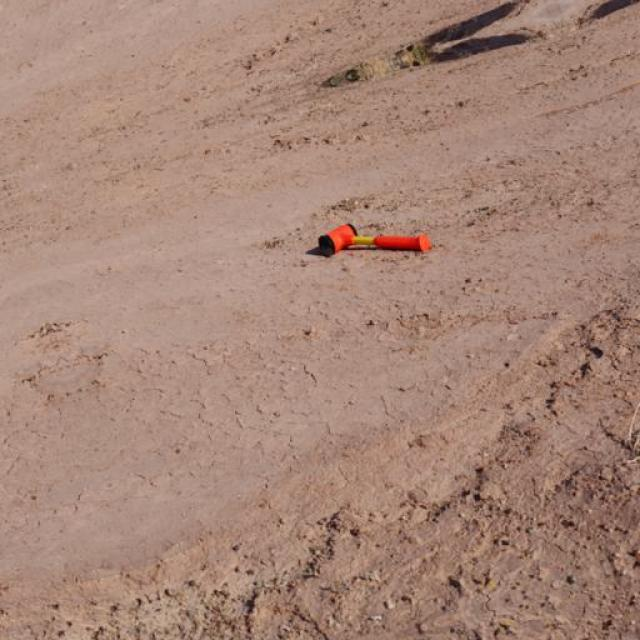mallet: (316, 222, 432, 256)
